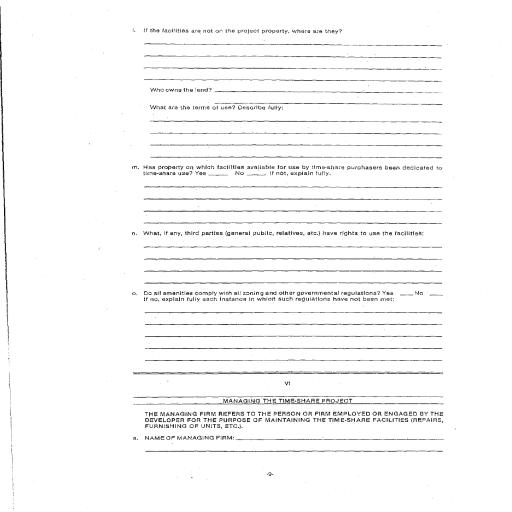check_box: (193, 171, 270, 181), (383, 287, 444, 298)
free_text: (142, 287, 380, 303), (140, 228, 426, 238), (142, 24, 346, 38), (150, 102, 288, 116), (145, 432, 233, 442), (147, 86, 213, 94)
